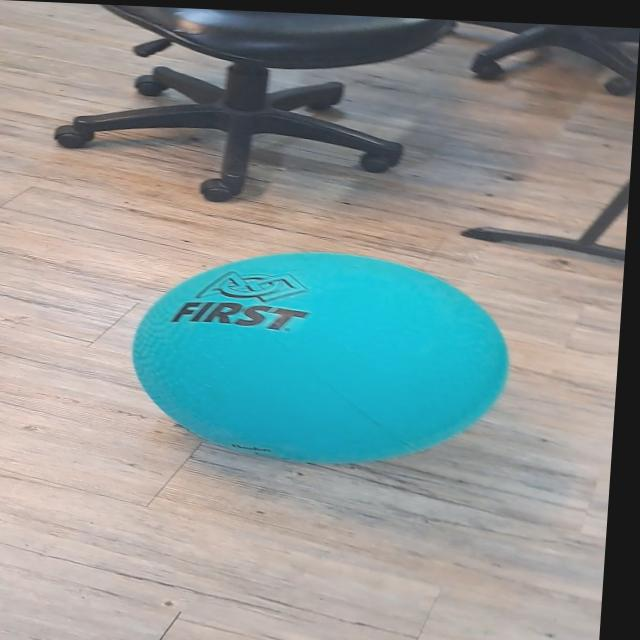ALGAE: (121, 242, 517, 474)
